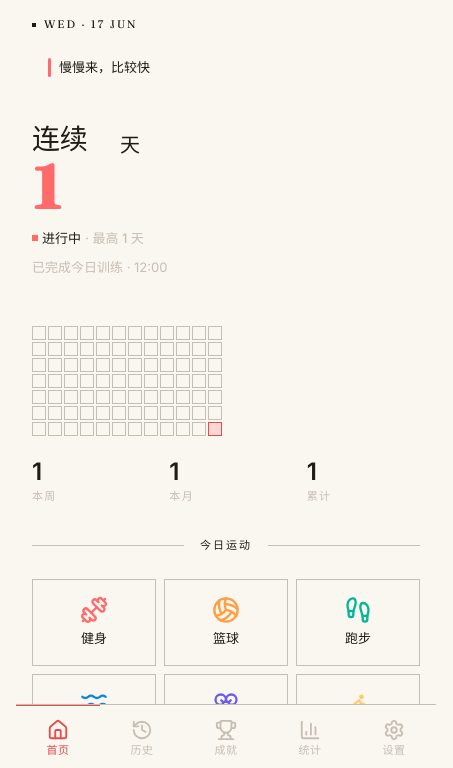
Test: 全应用页面切换集成测试 › 导航到历史页→显示打卡记录
The width and height of the screenshot is (453, 768).
Expected: the text "连续" is shown, left=32, top=125, right=88, bottom=153
Expected: the text "1" below "连续" is shown, left=32, top=146, right=62, bottom=225
Step 1. Click the link "历史" → (142, 738), box left=130, top=718, right=154, bottom=756
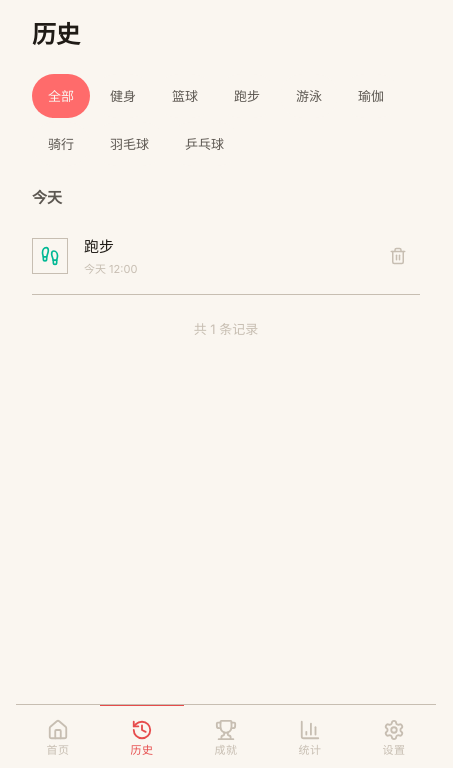
Expected: the text "跑步" is shown, left=84, top=237, right=114, bottom=256
Now the element with test id "page-history" is shown, box left=16, top=0, right=436, bottom=364
Now the element with test id "group-今天" is shown, box left=32, top=186, right=420, bottom=295
